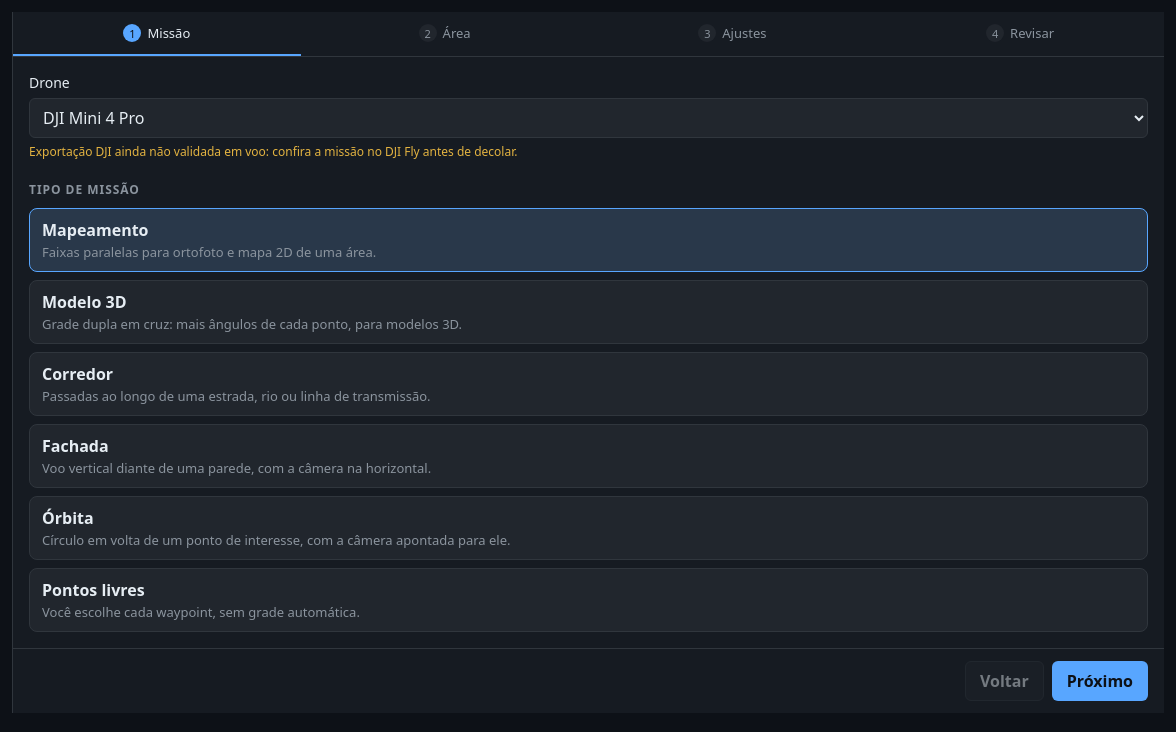
Scenario: Panel › offers the DJI download for a DJI drone
The width and height of the screenshot is (1176, 732).
Click the button "4 Revisar" at point(1020, 34), box [876, 12, 1164, 56]
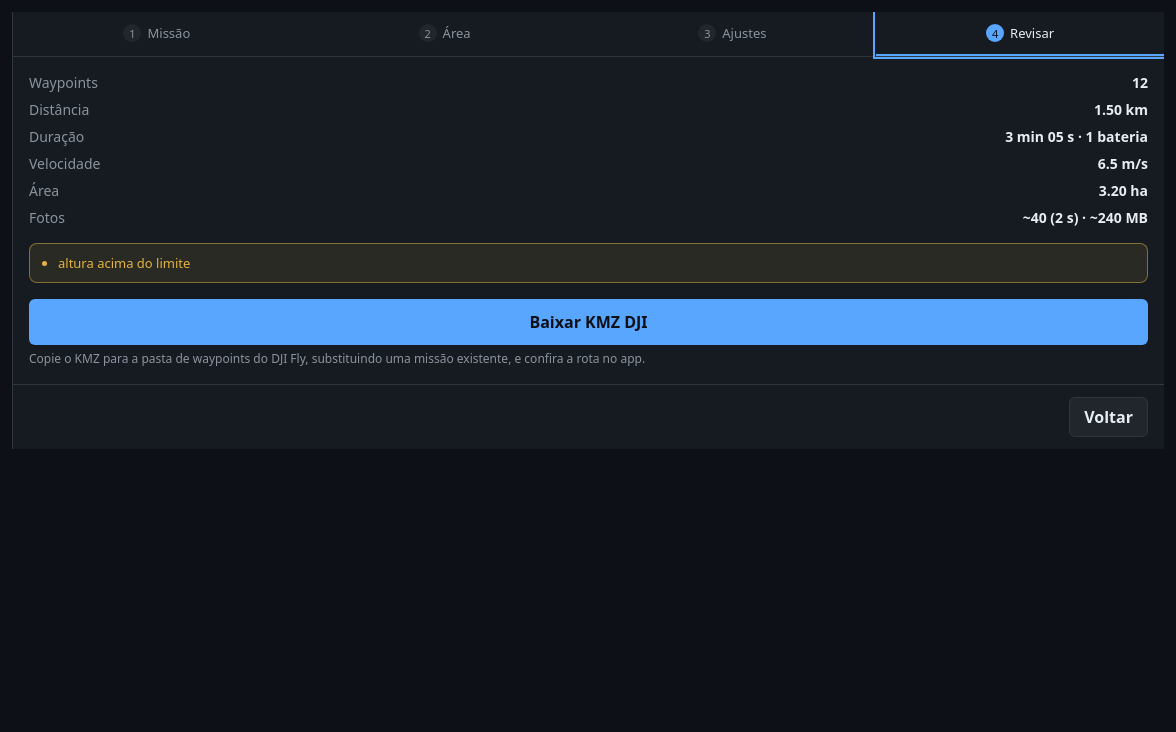
Result: the button "Baixar KMZ DJI" is shown at [29, 299, 1148, 345]
